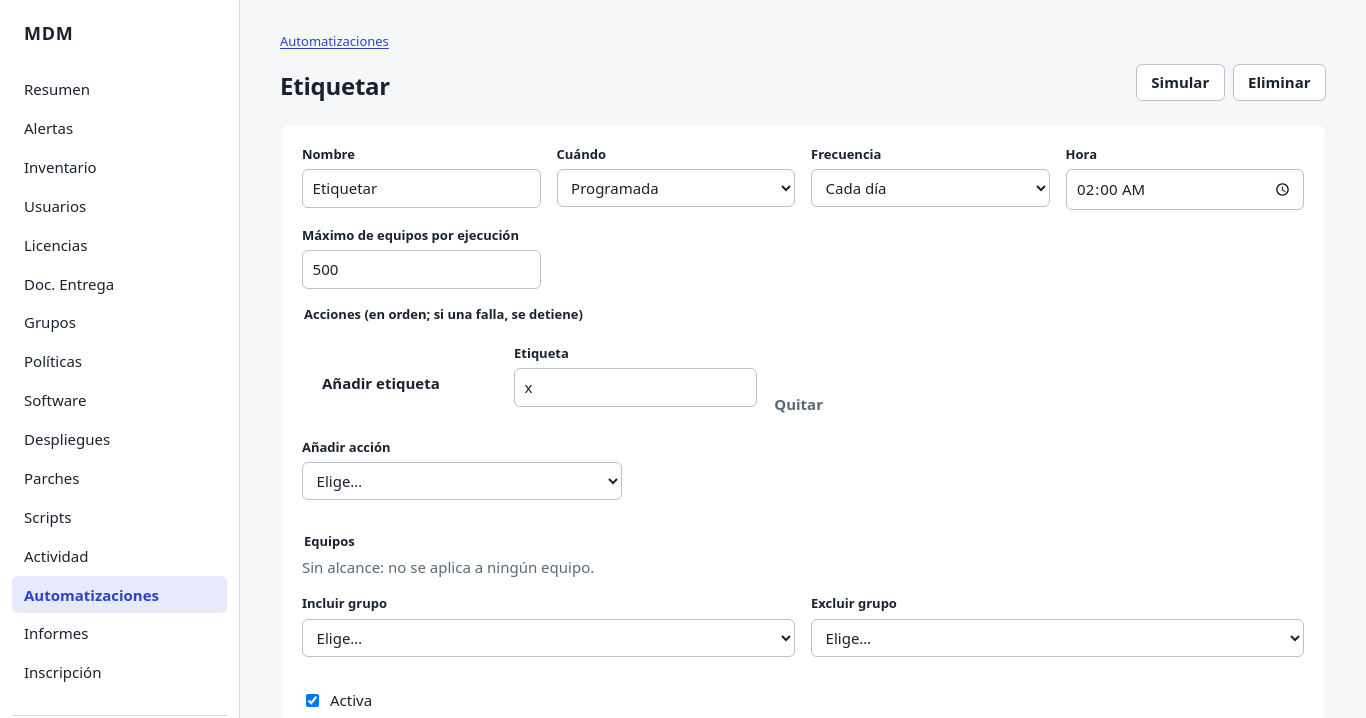
Test case: Automatizaciones › un operador no puede elegir reiniciar; simular muestra los equipos
What coordinates should you click on to do the following:
click the button "Simular"
I would click on:
 (1180, 82)
Its box is [1136,64,1225,101].
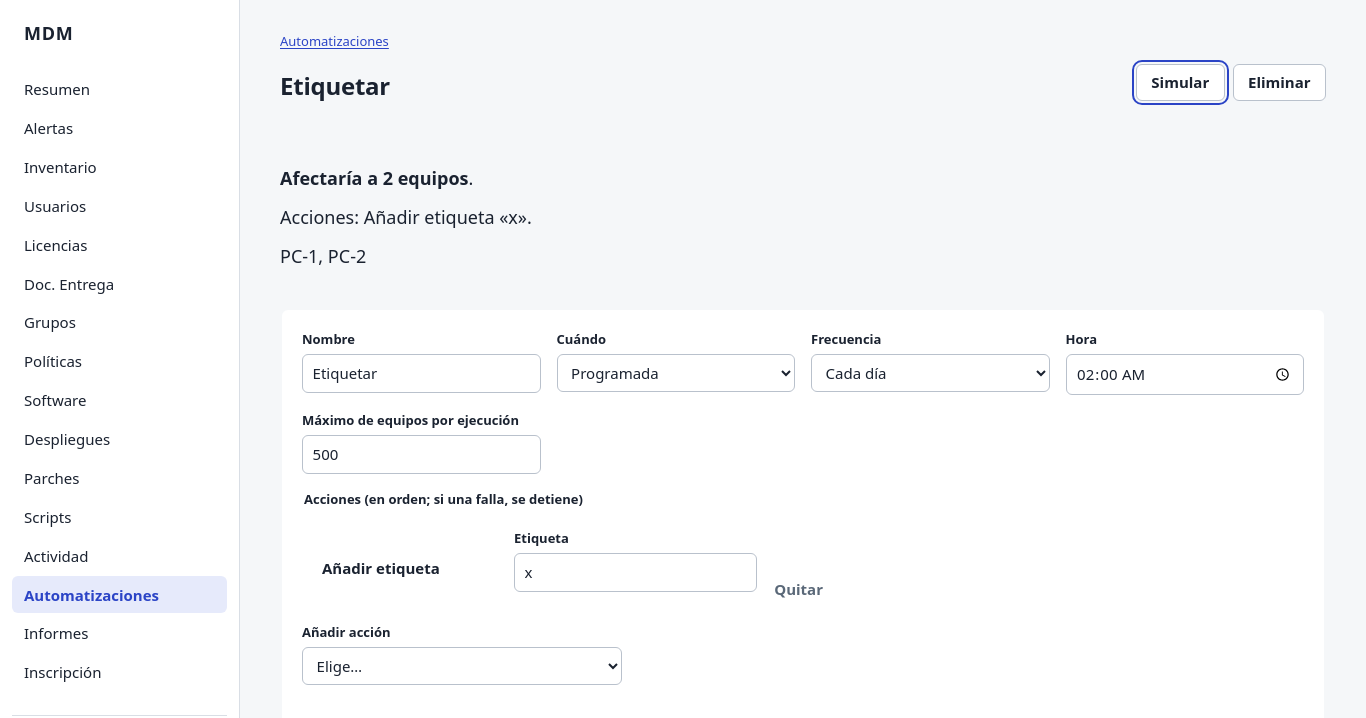
Now the text "Afectaría a 2 equipos" is shown, box [280,166,468,190]
Now the text "PC-1, PC-2" is shown, box [280,243,366,270]
